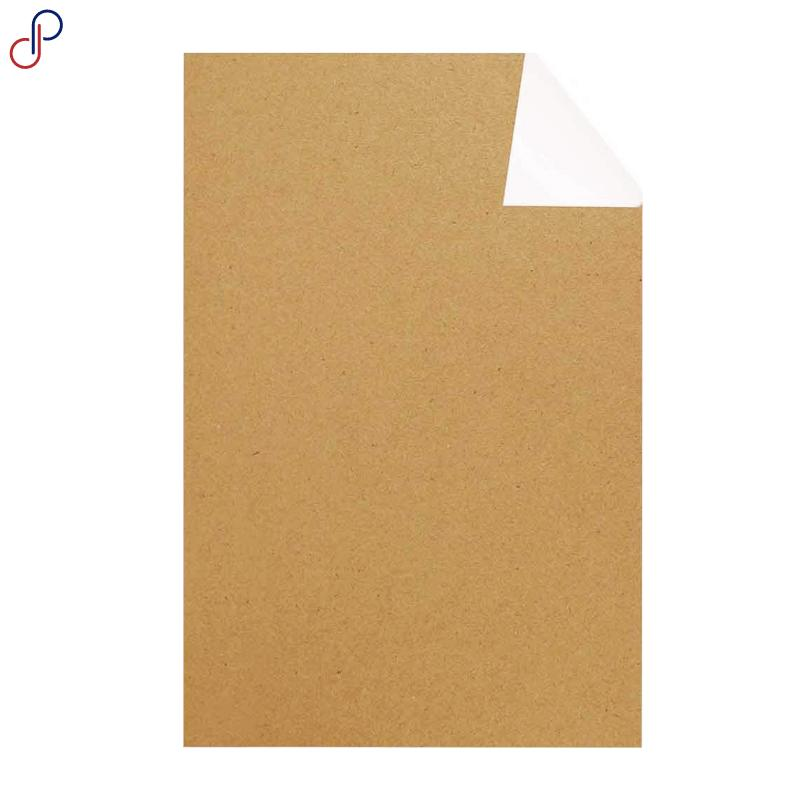plastic: (184, 54, 640, 746)
